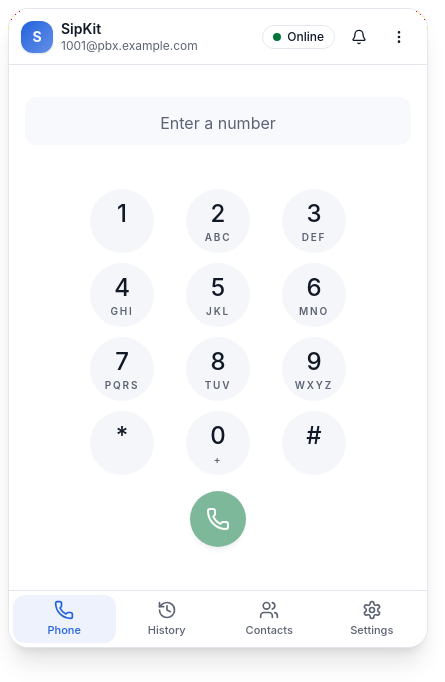
dialer autocomplete › suggests numbers from history and contacts as an accessible combobox
Type "984" into the dropdown named "Number to dial" at (218, 120), box [25,96,411,144]
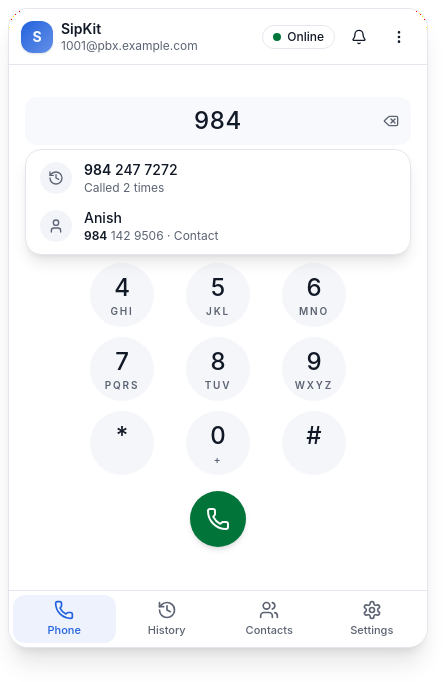
Expected: the dropdown named "Number to dial" is expanded, [25,96,411,144]
Press Arrowdown Arrowdown
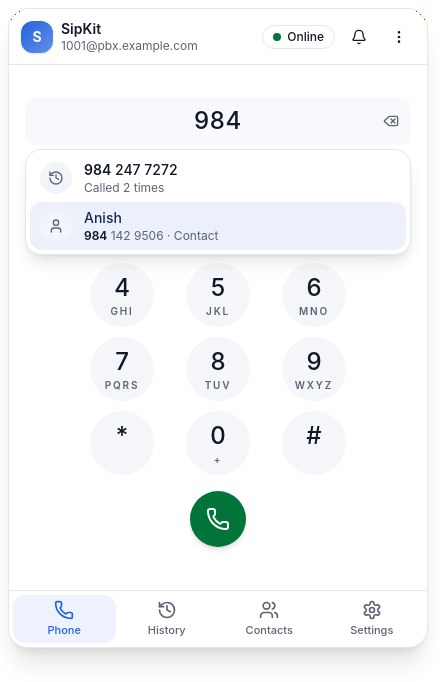
Expected: the option "Anish 984 142 9506 · Contact" is selected, [30,202,406,250]
Press Enter
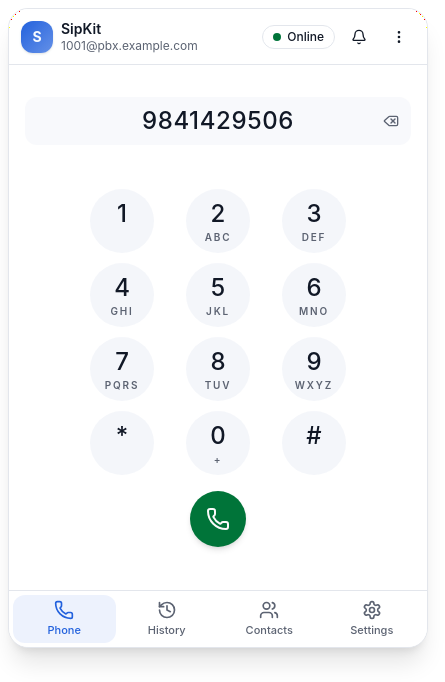
Expected: the dropdown named "Number to dial" holds "9841429506", [25,96,411,144]
Expected: the dropdown named "Number to dial" is collapsed, [25,96,411,144]
